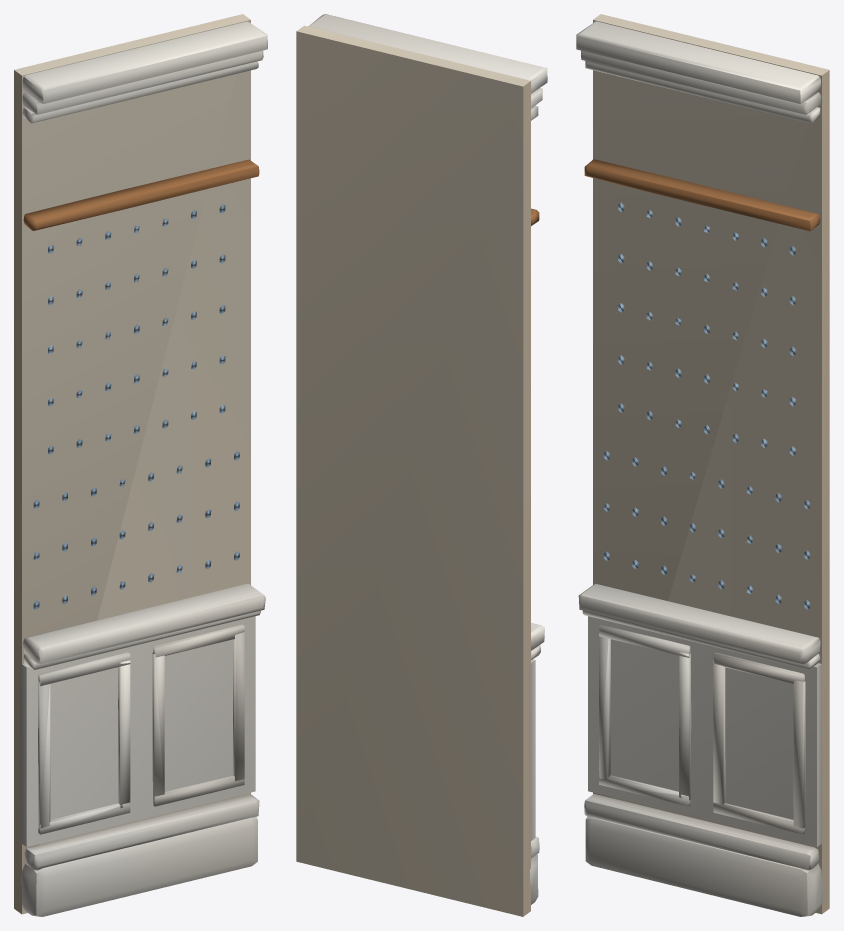
The model's file is frost_wall_panel_lod2.glb.
3 views of the same model, side by side, from view 1: azimuth 30°, elevation 25°; view 2: azimuth 150°, elevation 25°; view 3: azimuth 330°, elevation 25° (orthographic).
Parts seen in each view (by area): view 1: frost_wall_panel.001; view 2: frost_wall_panel.001; view 3: frost_wall_panel.001.
Boxes of the visible parts, left/top/right/bottom form: frost_wall_panel.001: left=14, top=14, right=267, bottom=916; frost_wall_panel.001: left=296, top=14, right=547, bottom=916; frost_wall_panel.001: left=576, top=14, right=829, bottom=916.
Bounding box in the file's own units: 20.09 × 70.01 × 4.2.
